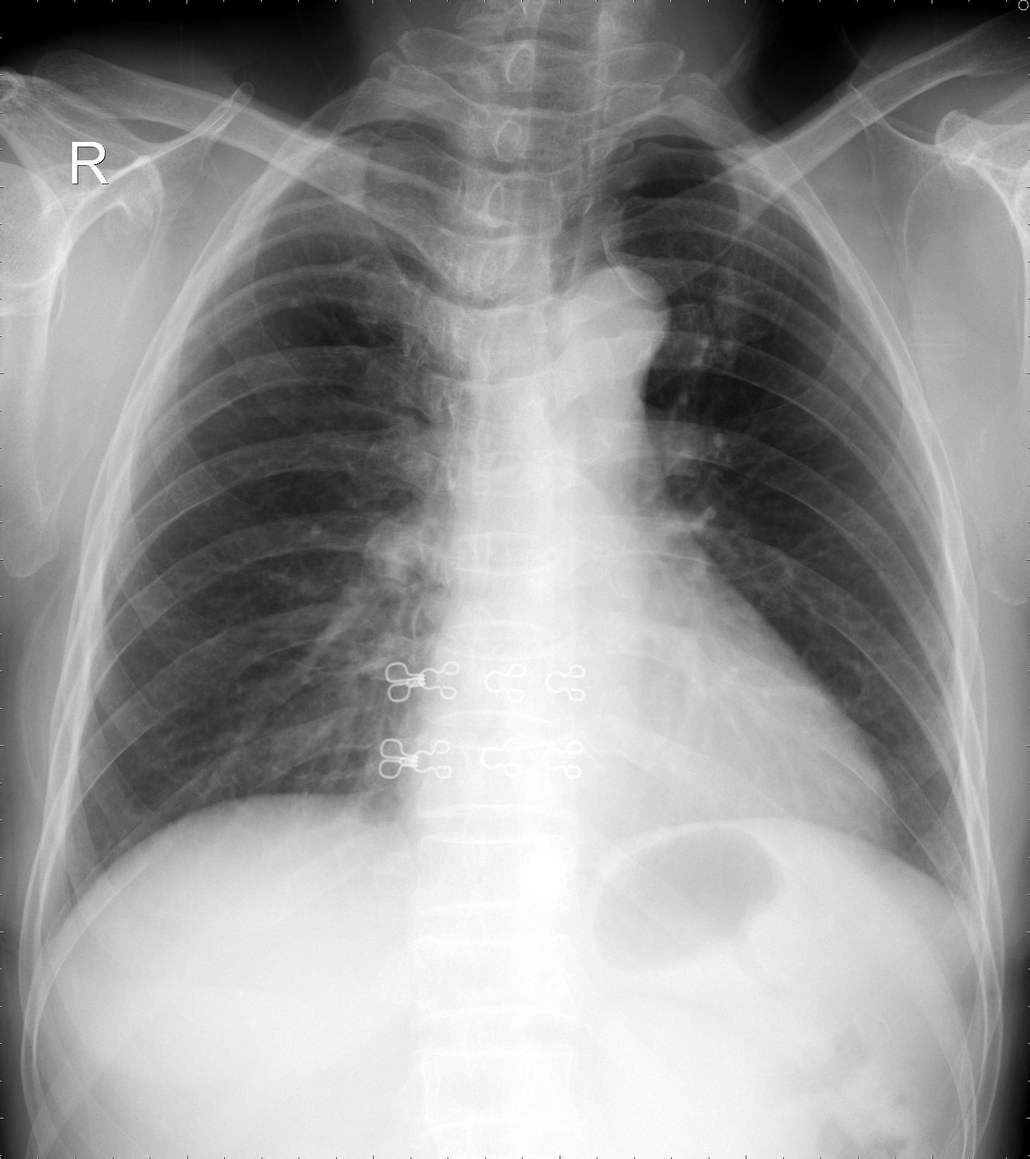Aortic enlargement: (557, 261, 671, 376)
Cardiomegaly: (398, 680, 894, 875)
